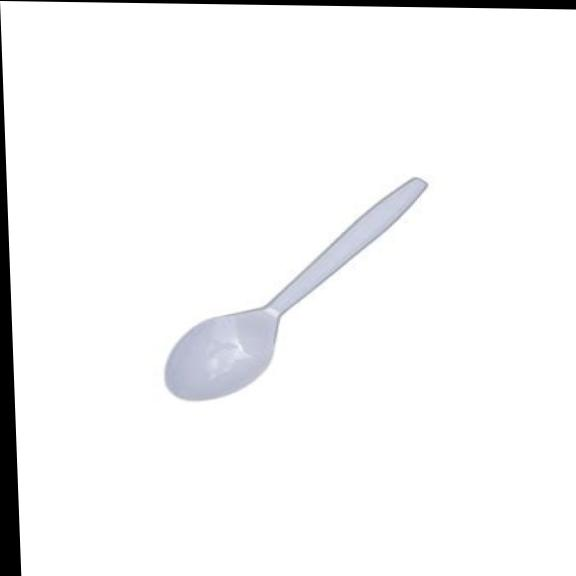Plastik: (165, 178, 427, 400)
